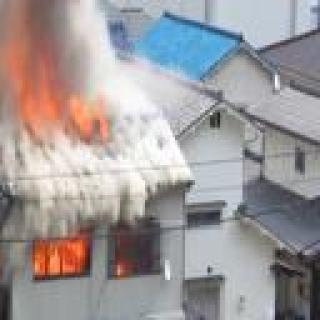fire: (0, 34, 116, 139), (29, 236, 101, 280), (0, 142, 14, 320)
